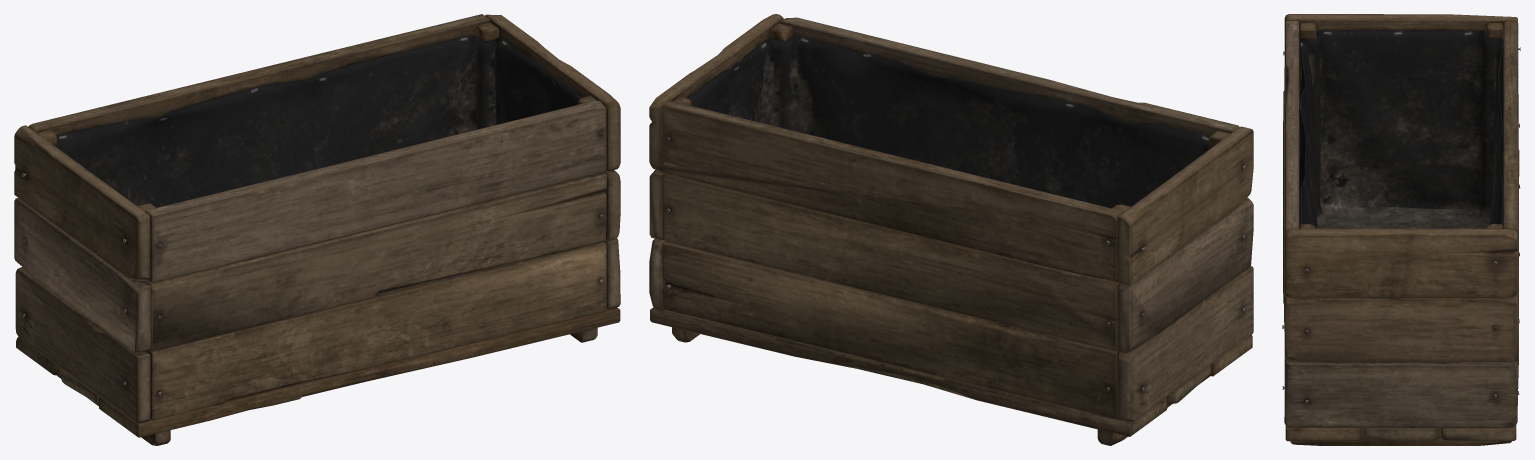
The model's file is planter_box_01_1k.gltf.
The picture shows the model from 3 angles, left to right: view 1: azimuth 30°, elevation 25°; view 2: azimuth 150°, elevation 25°; view 3: azimuth 270°, elevation 25°; orthographic projection. The views are drawn at different scales.
Parts seen in each view (by area): view 1: planter_box_01; view 2: planter_box_01; view 3: planter_box_01.
Part boxes in pixels (x1,y1,x2,y2): planter_box_01: (14,14,620,445); planter_box_01: (649,14,1253,445); planter_box_01: (1282,14,1520,445).
Size of the model in its own units: 0.9126 by 0.425 by 0.4137.
Materials: 1 (1 with a texture image).
